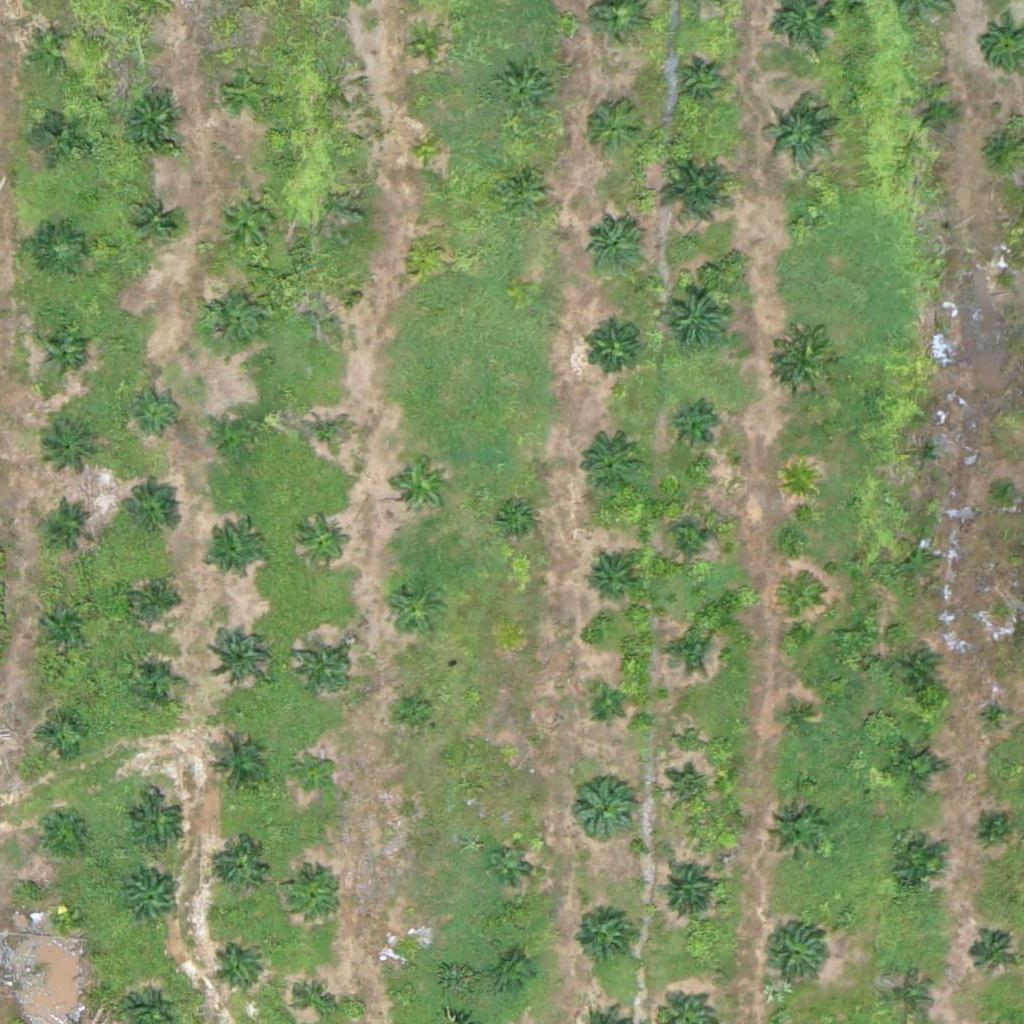Kelapa_Sawit: (654, 147, 741, 235), (762, 98, 837, 174), (657, 278, 732, 353), (571, 774, 634, 837), (382, 578, 445, 641), (125, 792, 188, 855), (580, 96, 643, 159), (583, 213, 646, 276), (774, 330, 837, 393), (41, 416, 104, 479), (199, 287, 262, 350), (389, 455, 452, 518), (494, 62, 557, 125), (120, 485, 183, 548), (204, 523, 266, 586), (572, 901, 634, 964), (205, 736, 267, 799), (292, 637, 354, 700), (208, 620, 270, 683), (577, 433, 639, 496), (581, 316, 643, 379), (655, 858, 717, 921), (765, 802, 827, 865), (885, 835, 947, 898), (763, 922, 825, 985), (123, 89, 185, 152), (217, 190, 279, 253), (884, 736, 946, 799), (122, 871, 184, 933), (298, 516, 348, 567), (583, 554, 633, 605), (660, 624, 710, 675), (35, 224, 85, 275), (33, 106, 83, 157), (912, 88, 962, 139), (966, 928, 1016, 979), (128, 195, 178, 246), (302, 410, 352, 461), (214, 408, 264, 459), (132, 385, 182, 436), (40, 327, 90, 378), (37, 804, 87, 854), (36, 708, 86, 758), (218, 839, 268, 889), (288, 871, 338, 921), (664, 404, 714, 454), (497, 163, 547, 213), (881, 973, 931, 1023), (661, 767, 711, 817), (665, 518, 715, 568), (223, 66, 273, 116), (26, 26, 76, 76), (130, 574, 180, 624), (132, 658, 182, 708), (38, 594, 88, 644), (43, 499, 93, 549), (213, 943, 263, 993), (673, 56, 722, 107), (780, 461, 818, 499), (978, 698, 1016, 736), (902, 650, 940, 688), (782, 583, 820, 621), (781, 703, 819, 741), (898, 541, 936, 579), (408, 26, 446, 64), (410, 133, 448, 171), (406, 233, 444, 271), (497, 504, 535, 542), (293, 756, 331, 794), (391, 939, 429, 977), (297, 981, 335, 1019), (496, 955, 533, 993), (907, 435, 944, 473), (588, 687, 625, 725), (313, 285, 350, 323), (396, 693, 433, 730), (491, 843, 528, 880), (980, 814, 1005, 840), (992, 475, 1017, 500), (989, 266, 1014, 291), (790, 213, 815, 238), (50, 905, 75, 930)
